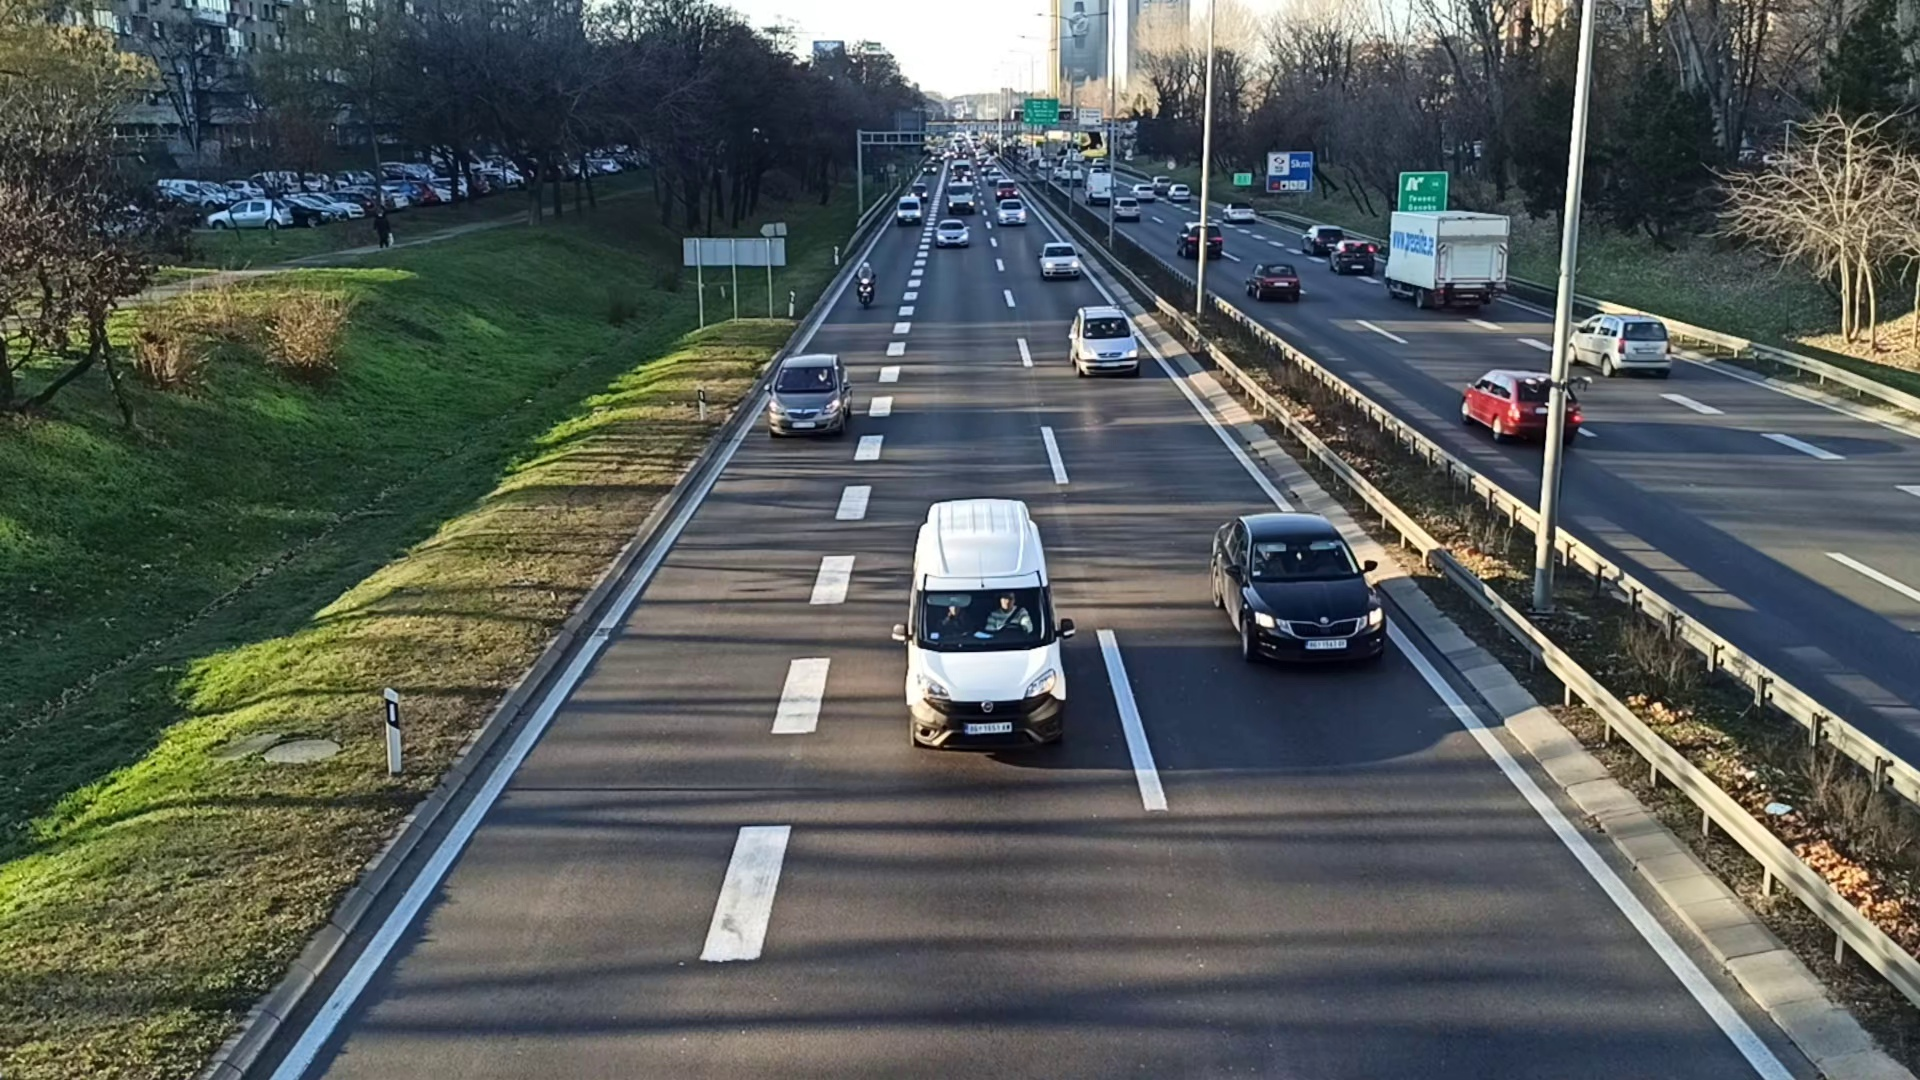car: (1207, 512, 1387, 669), (1455, 368, 1581, 443), (767, 353, 853, 435), (1564, 313, 1672, 377), (1065, 306, 1142, 380), (1246, 261, 1298, 305), (1328, 239, 1379, 280), (1036, 239, 1081, 281), (1178, 219, 1222, 256), (932, 218, 972, 249), (1300, 224, 1340, 252), (897, 194, 920, 219)
motorcycle: (855, 258, 876, 306)
truck: (1385, 208, 1509, 307)
van: (898, 496, 1068, 756)
